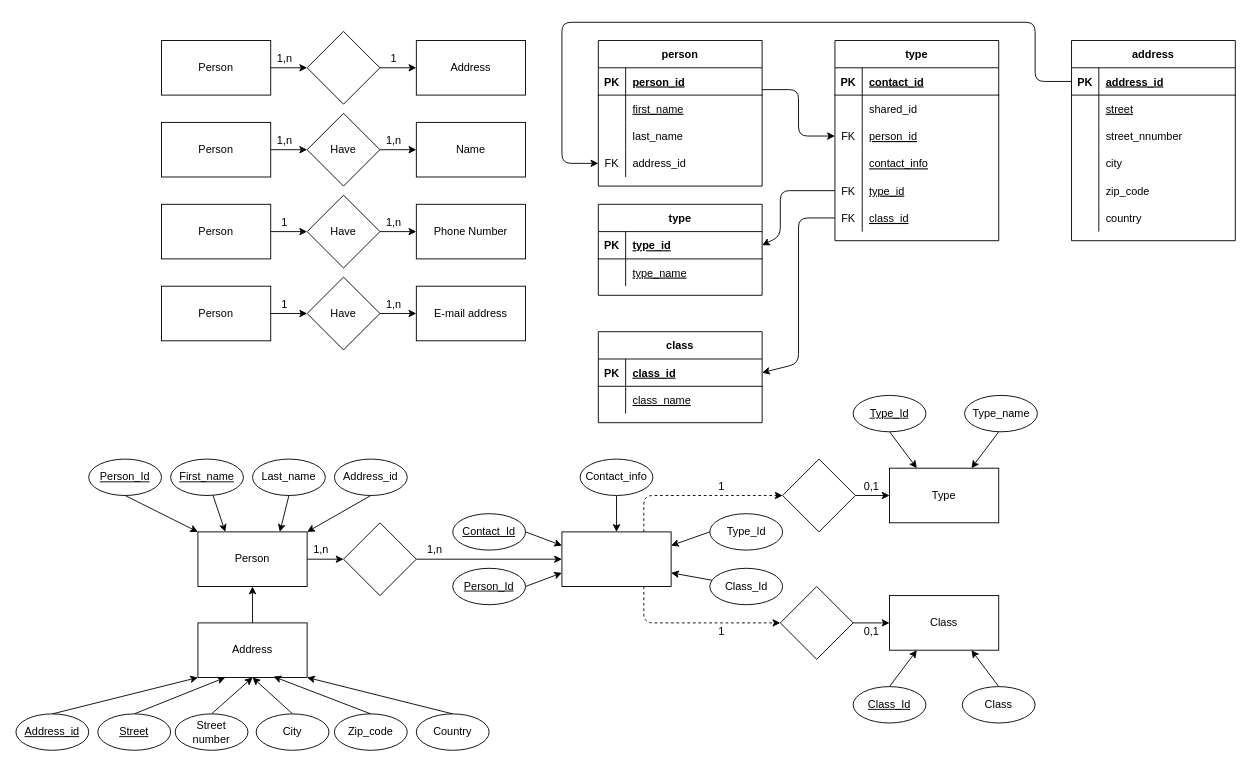
Image size: 1251x766. Some labels were removed from this diagram. Here are the shapes that lost their labels. From the top down, the box of each, then its label:
(306, 30, 380, 104): Lives at
(782, 458, 855, 532): Have type
(343, 522, 416, 596): Have info
(561, 531, 671, 586): Contact
(779, 586, 853, 659): Have class
